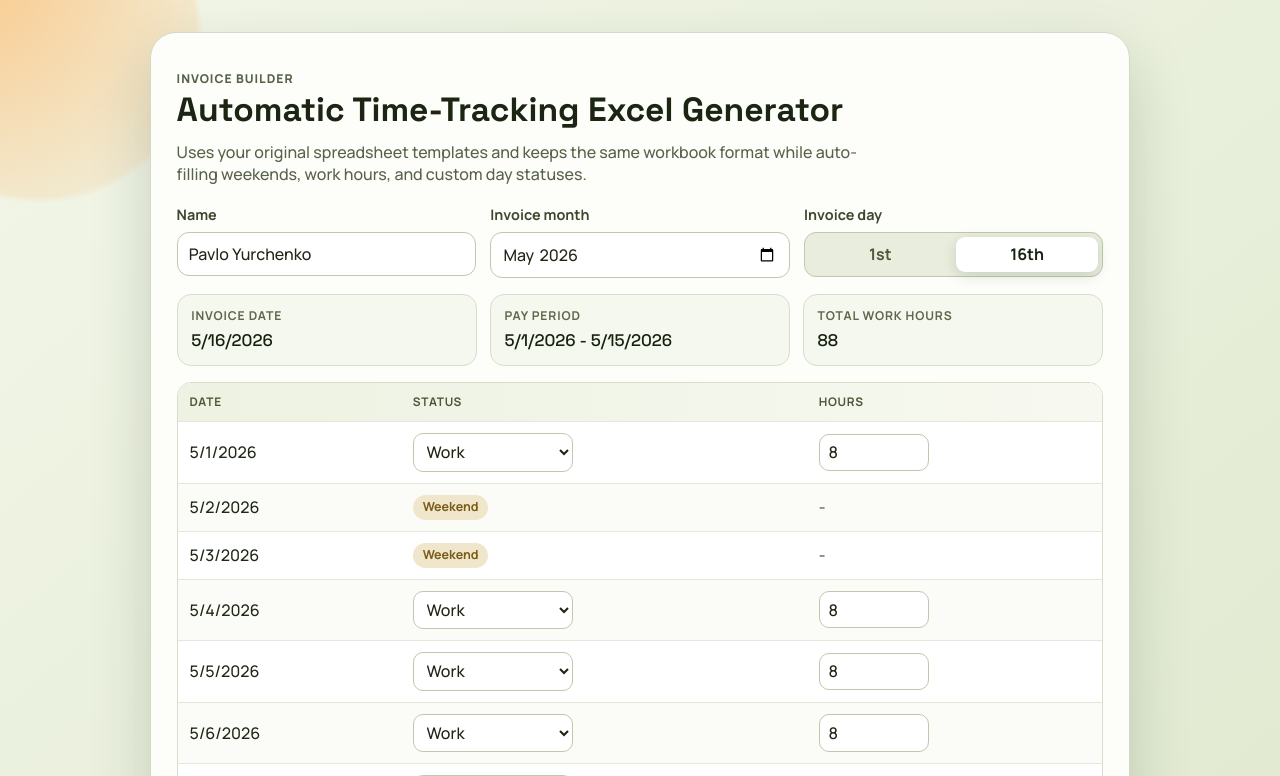
Scenario: App editable day behavior › updates total work hours when a workday hours input changes
The width and height of the screenshot is (1280, 776).
Replace the text in the field labelled "Invoice month" with "2026-02": point(640, 255) [490, 232, 790, 278]
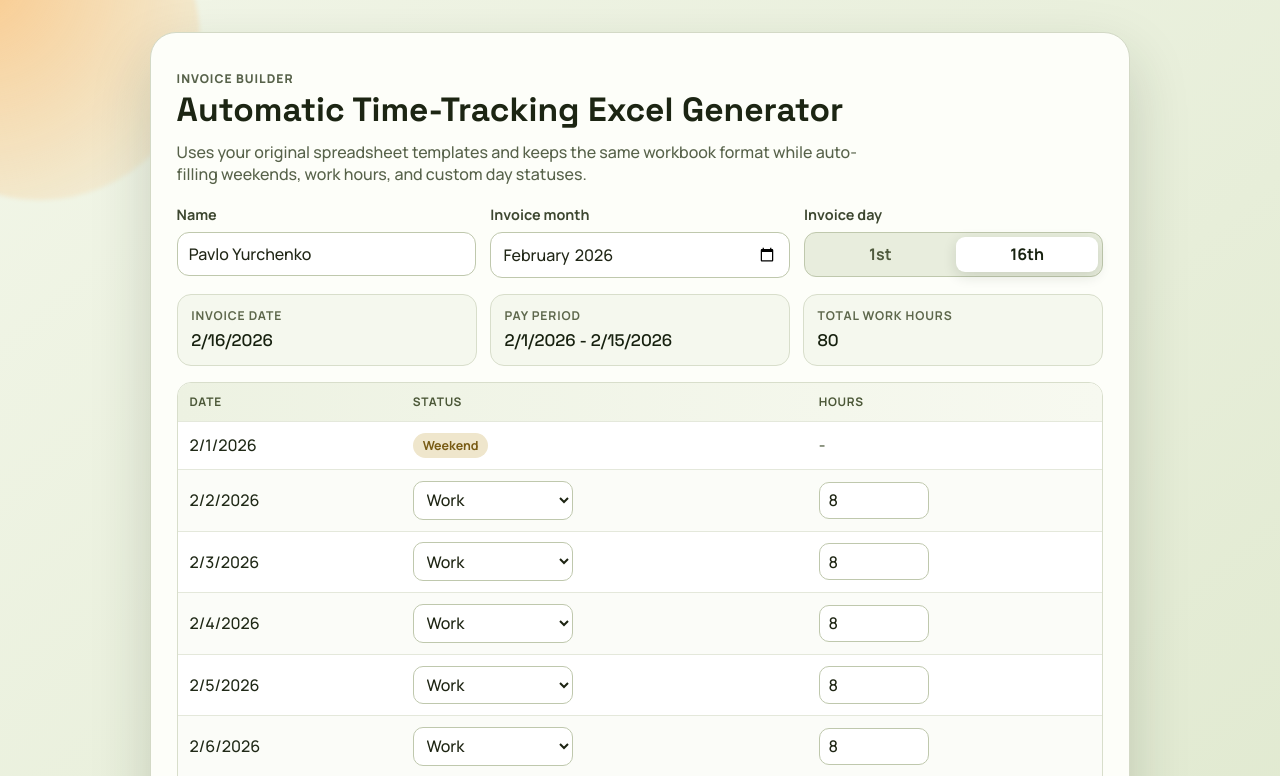
Click the button "16th": point(1027, 254) [956, 237, 1098, 272]
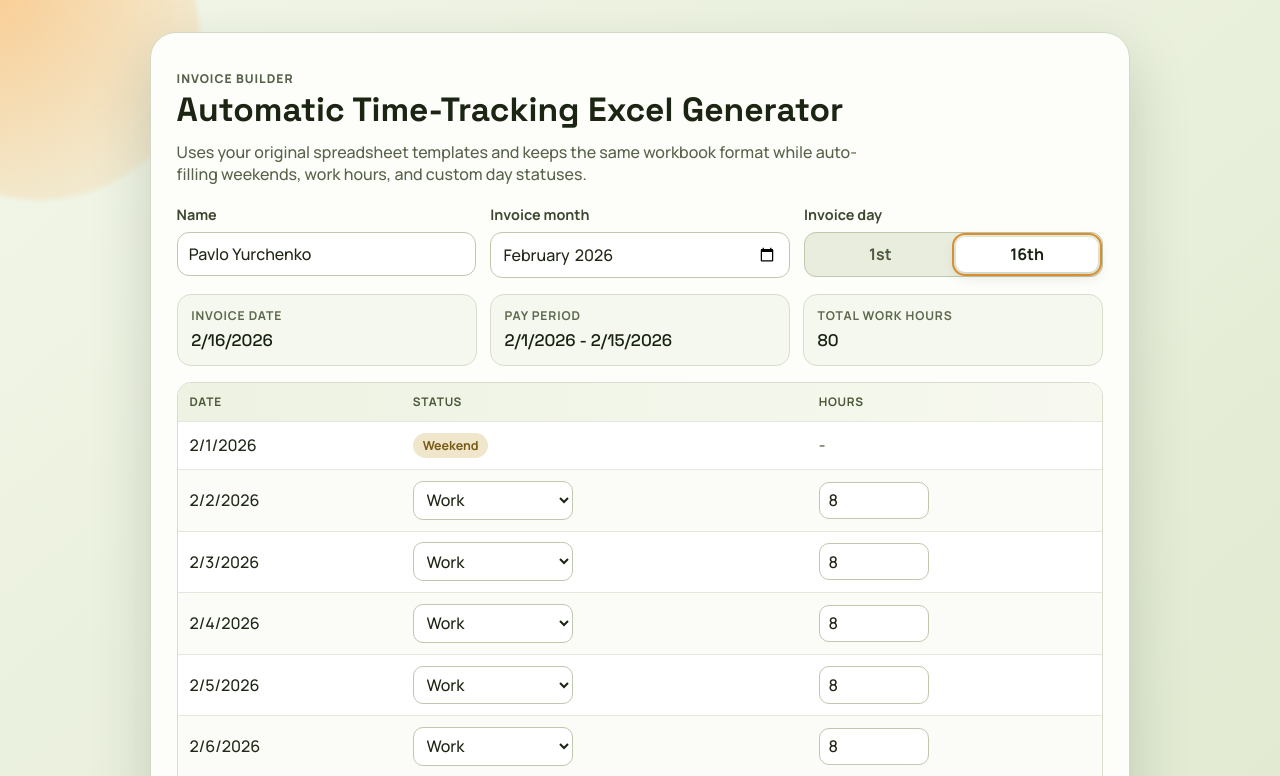
Replace the text in the number field in the row of "2/2/2026" with "6.5": point(874, 500) [819, 482, 929, 519]
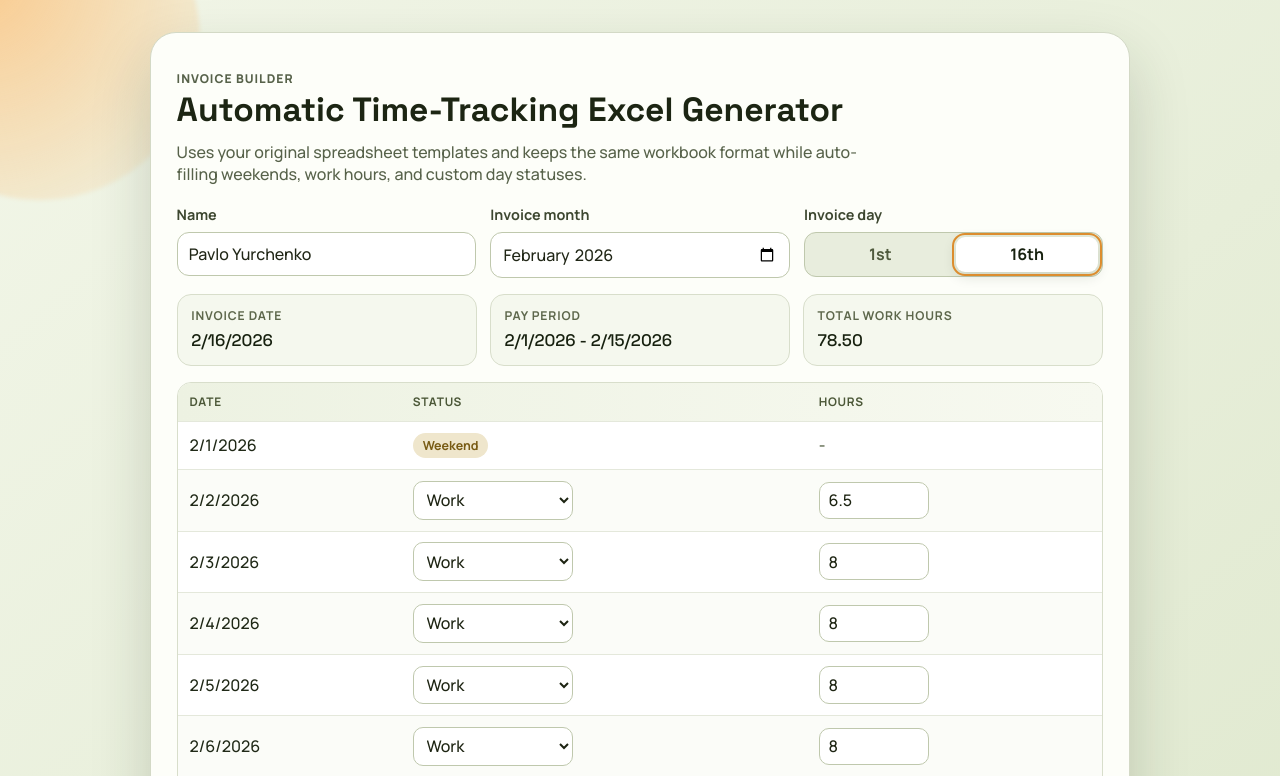
Expected: the text "78.50" is shown, [818, 329, 863, 351]
